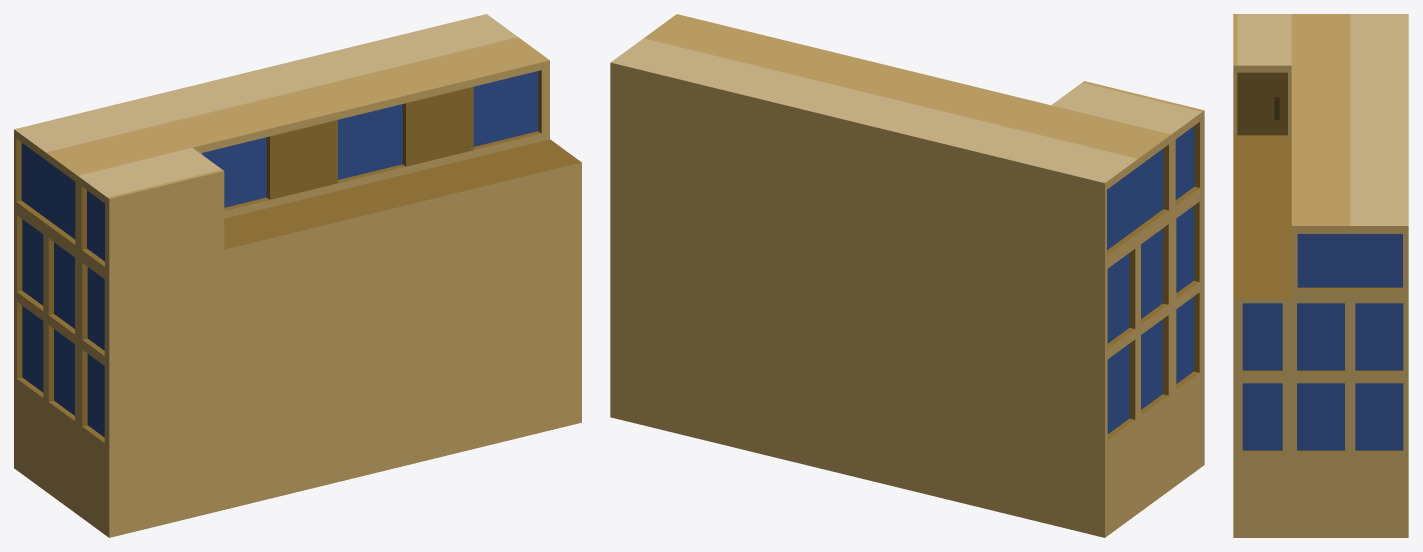
The model's file is Bld_11.fbx.
3 views of the same model, side by side, from view 1: azimuth 30°, elevation 25°; view 2: azimuth 150°, elevation 25°; view 3: azimuth 270°, elevation 25° (orthographic). The views are drawn at different scales.
Visible parts, largest first — view 1: Cube.067; view 2: Cube.067; view 3: Cube.067.
Part boxes in pixels (x1,y1,x2,y2): Cube.067: [14, 14, 581, 537]; Cube.067: [610, 14, 1204, 537]; Cube.067: [1233, 14, 1408, 537].
Bounding box in the file's own units: 1507 × 1033 × 525.
